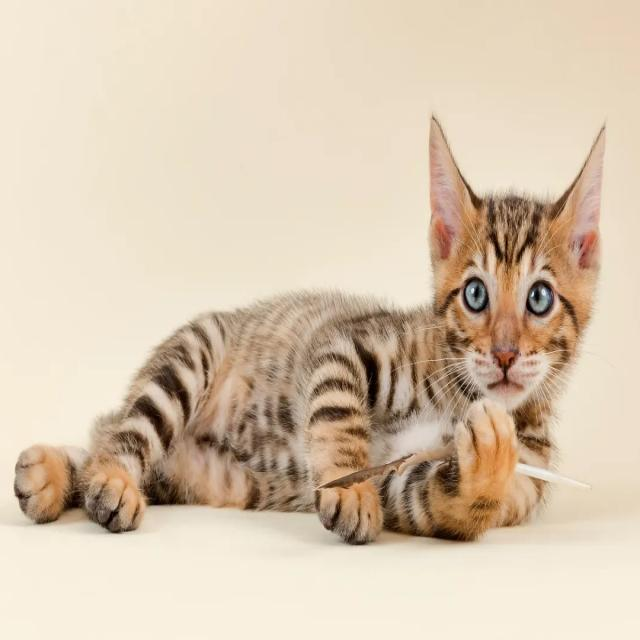Toyger: (9, 104, 610, 550)
